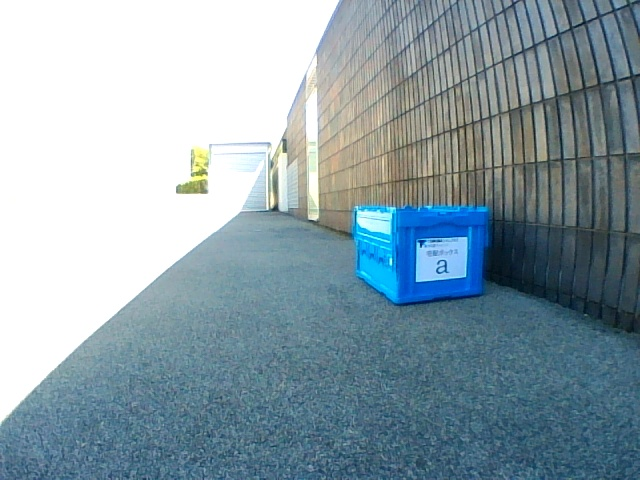blue_box: (352, 205, 488, 305)
tag_a: (418, 240, 463, 276)
